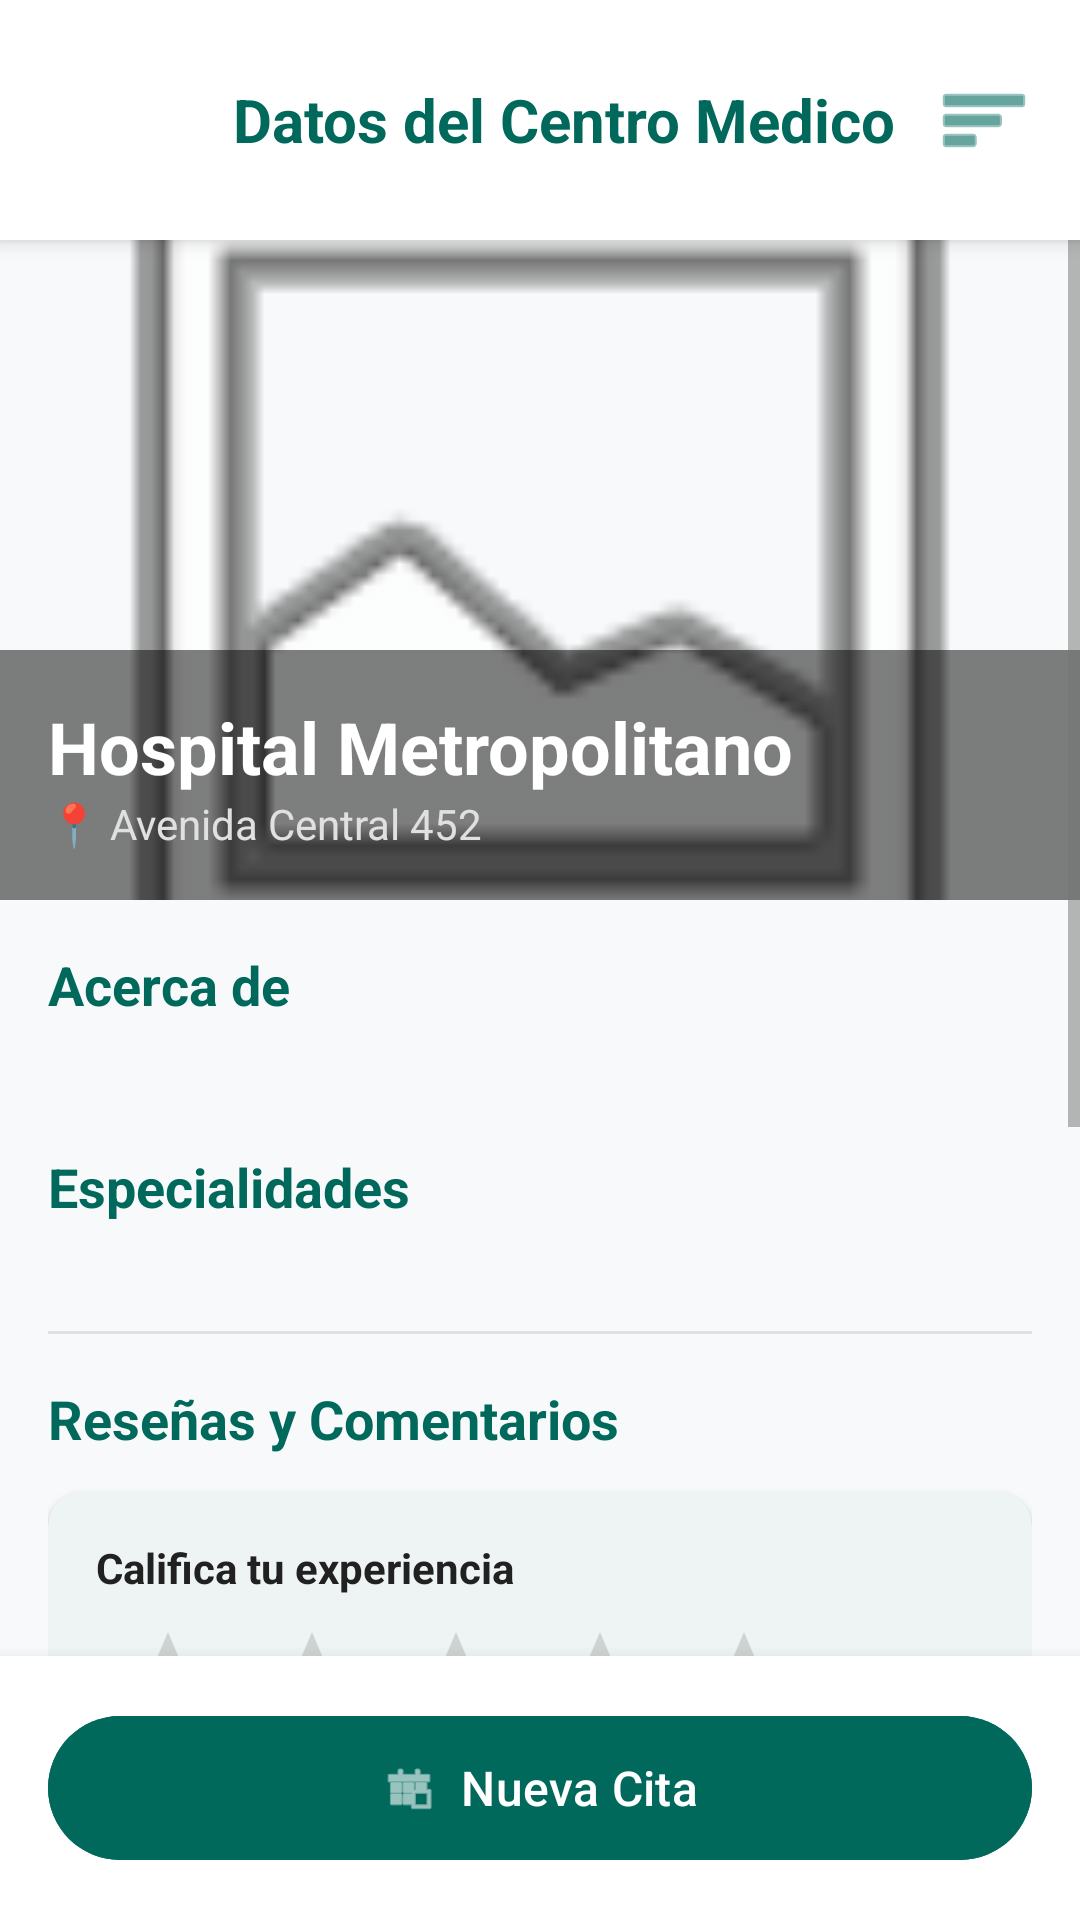

Point at icon controls on the screen. Image size 1080 x 1920, points as [x,y].
sort by size: [984,120]
